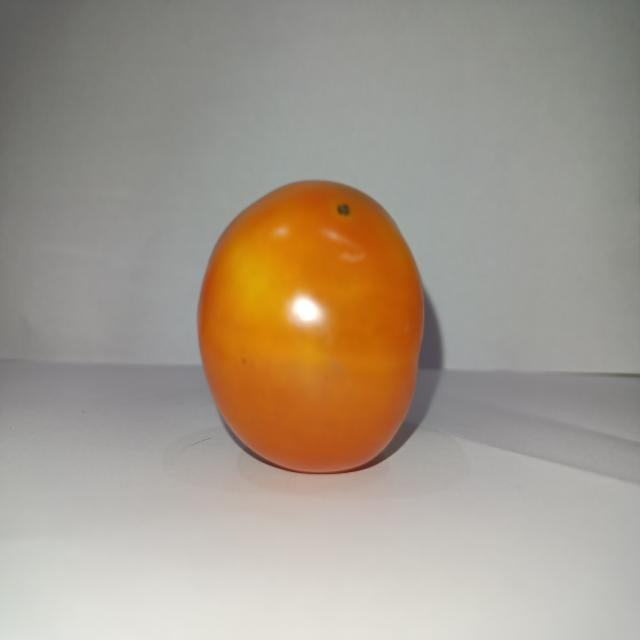Red: (195, 178, 425, 474)
